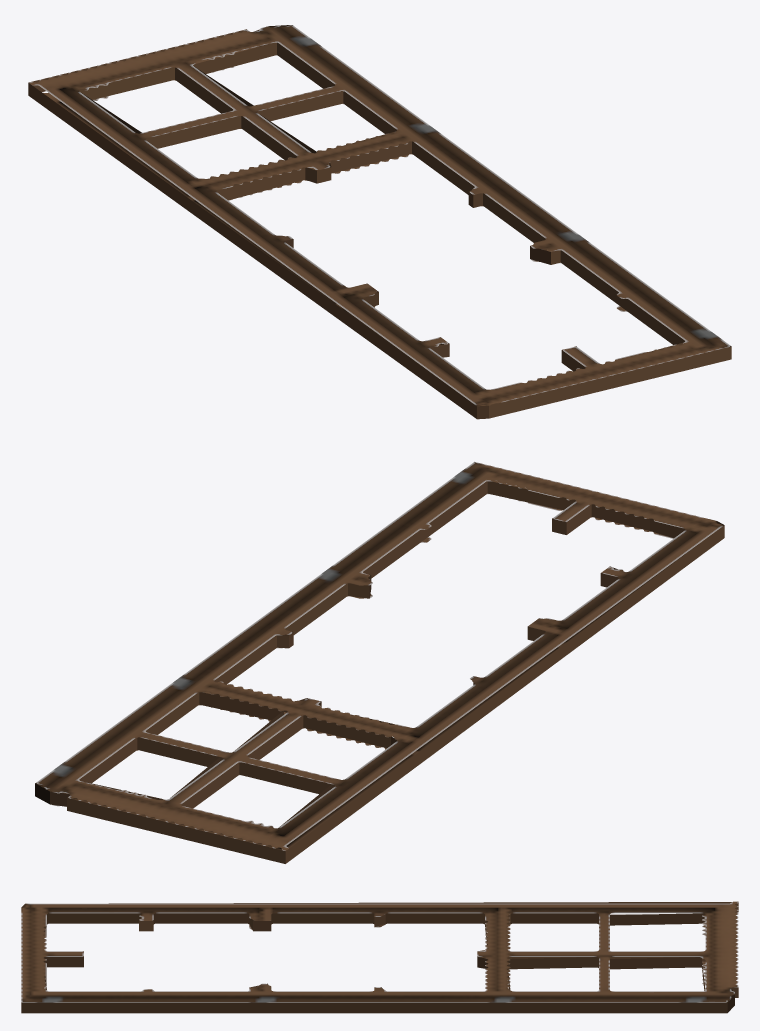
File: pz_native_fixtures_windows_wood_109_frame.obj
3 renders of one model, top to bottom at view 1: azimuth 30°, elevation 25°; view 2: azimuth 150°, elevation 25°; view 3: azimuth 270°, elevation 25°, orthographic. The views are drawn at different scales.
Visible parts, largest first — view 1: pz_native_fixtures_windows_wood_109_frame; view 2: pz_native_fixtures_windows_wood_109_frame; view 3: pz_native_fixtures_windows_wood_109_frame.
Part boxes in pixels (x1,y1,x2,y2): pz_native_fixtures_windows_wood_109_frame: (28, 25, 731, 419); pz_native_fixtures_windows_wood_109_frame: (35, 462, 724, 863); pz_native_fixtures_windows_wood_109_frame: (21, 901, 738, 1013).
Bounding box in the file's own units: 0.8906 × 0.04 × 2.54.
1 material, 1 textured.
